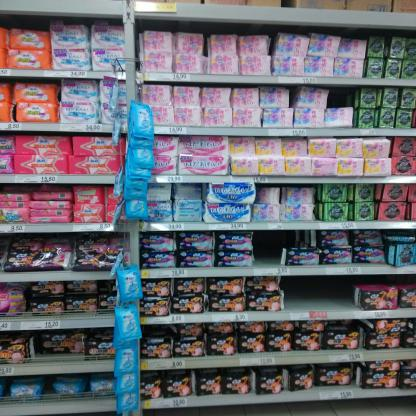Void: (284, 279, 355, 308), (255, 234, 279, 266), (332, 90, 350, 106), (286, 231, 302, 245)
